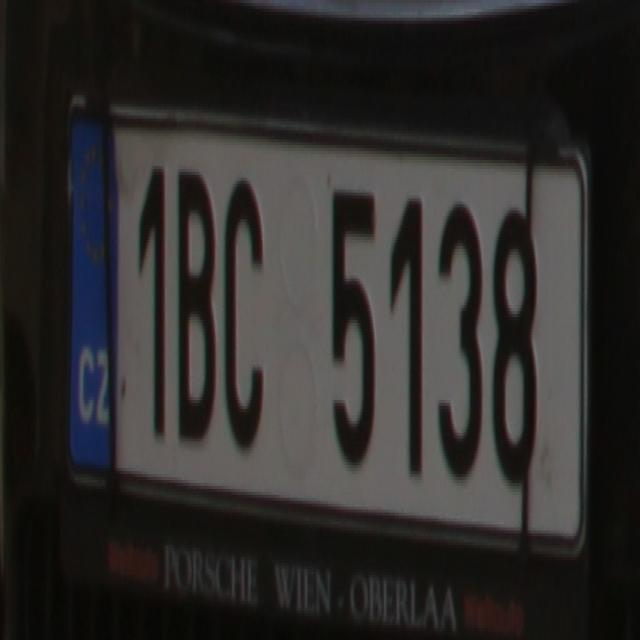1: (386, 184, 427, 481), (134, 162, 168, 444)
3: (434, 189, 486, 486)
5: (327, 169, 378, 471)
8: (490, 190, 540, 500)
B: (174, 160, 218, 444)
C: (222, 168, 266, 460)
